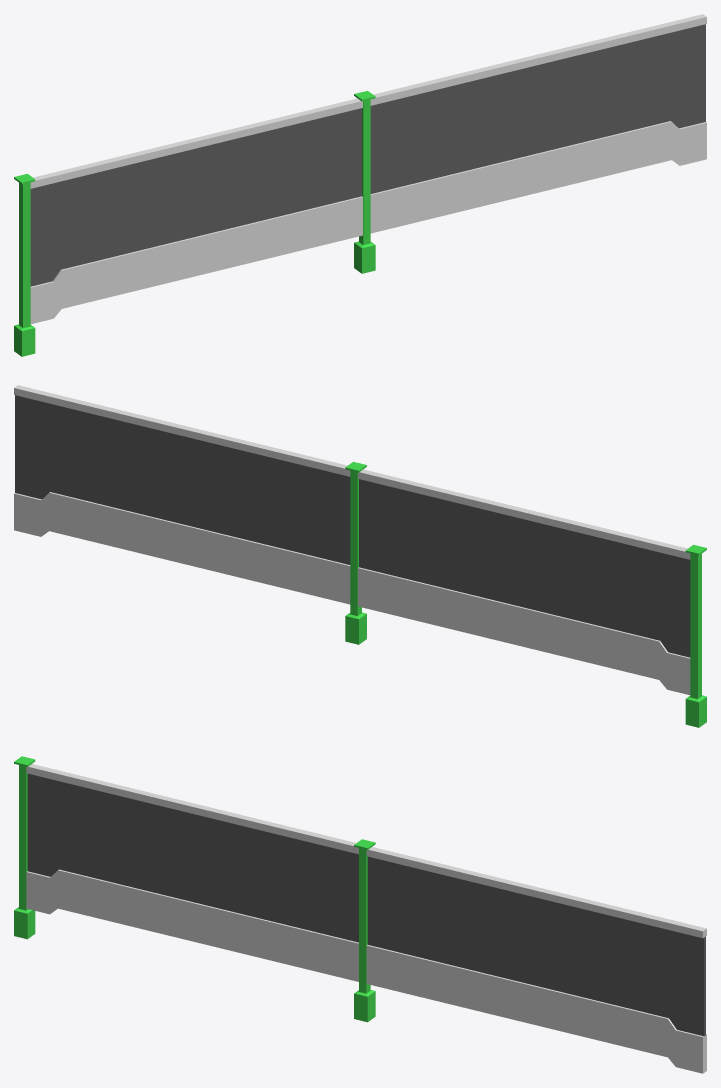
File: FenceElegant00_x5.fbx
The picture shows the model from 3 angles, top to bottom: view 1: azimuth 30°, elevation 25°; view 2: azimuth 150°, elevation 25°; view 3: azimuth 330°, elevation 25°; orthographic projection.
Parts seen in each view (by area): view 1: FenceElegant00_x5; view 2: FenceElegant00_x5; view 3: FenceElegant00_x5.
Boxes of the visible parts, x1,y1,x2,y2 form: FenceElegant00_x5: [14, 14, 706, 356]; FenceElegant00_x5: [14, 385, 706, 727]; FenceElegant00_x5: [14, 756, 706, 1073].
Size of the model in its own units: 505 by 122 by 10.
